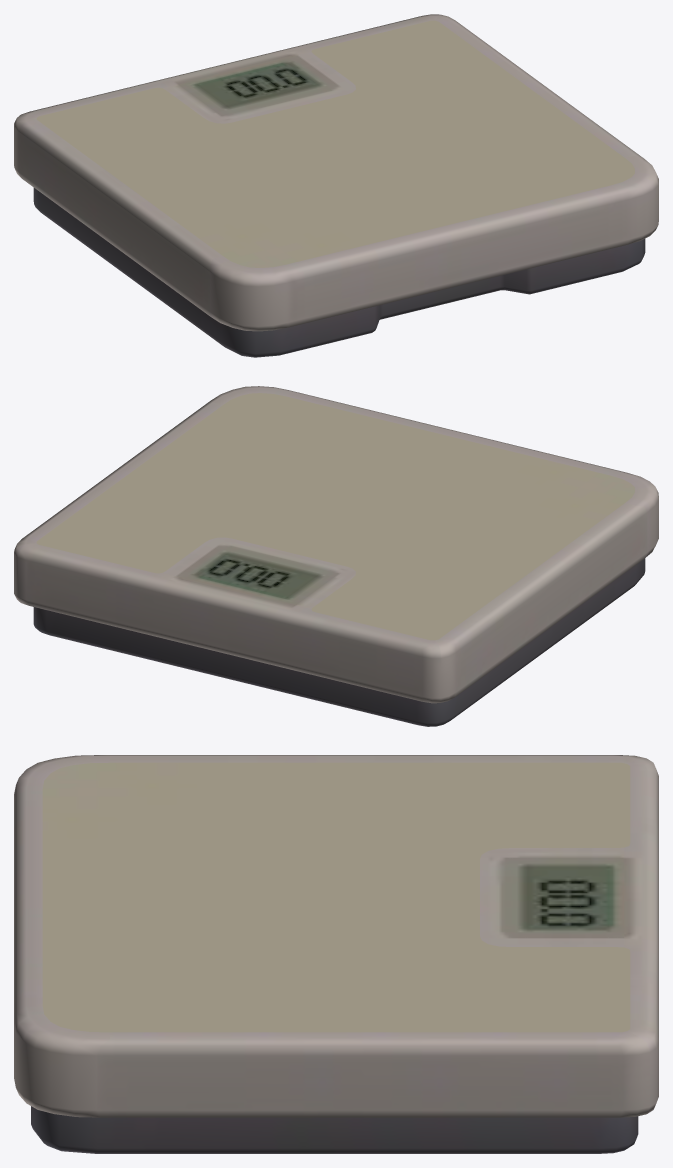
Rendered from digital-scale.glb.
3 renders of one model, top to bottom at view 1: azimuth 30°, elevation 25°; view 2: azimuth 150°, elevation 25°; view 3: azimuth 270°, elevation 25°, orthographic. The views are drawn at different scales.
Bounding box in the file's own units: 6.11 × 1.16 × 5.68.
Materials: 2 (2 with a texture image).
